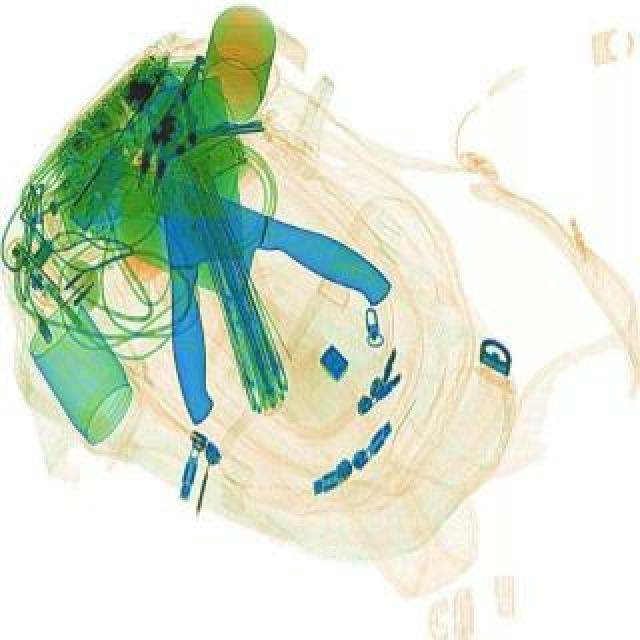knife: (62, 146, 402, 360), (136, 78, 270, 428)
